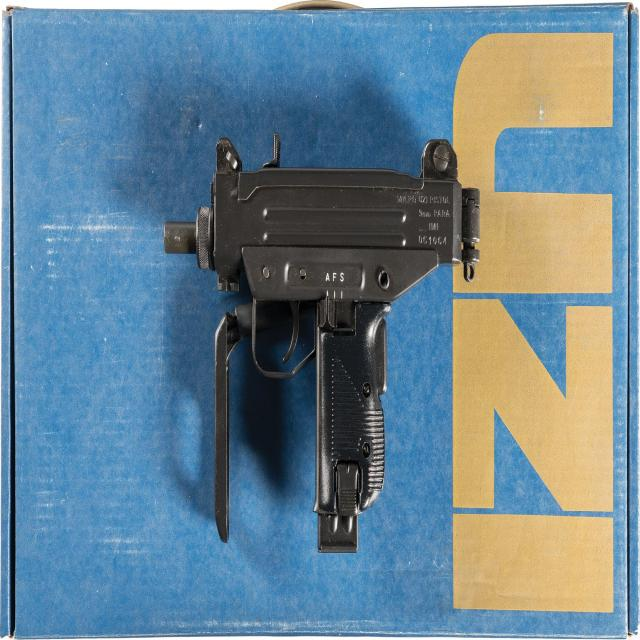SMG: (163, 139, 479, 558)
